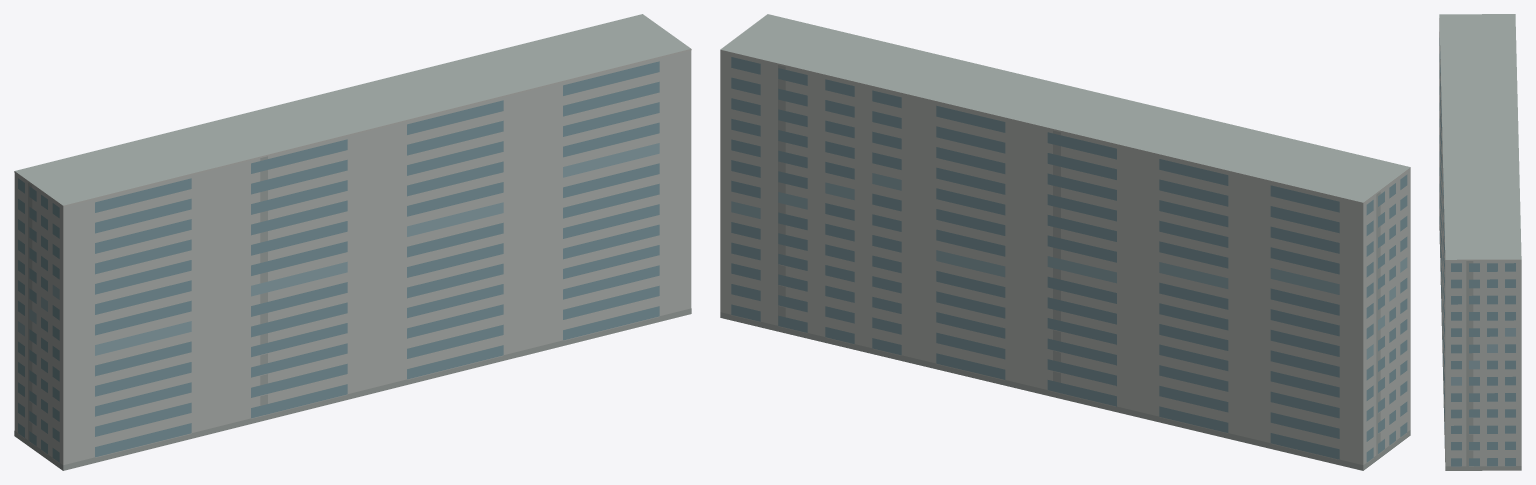
The model's file is residential-3716f297-446a-4392-a8b0-62bf82c9d0bc.glb.
3 renders of one model, left to right at view 1: azimuth 30°, elevation 25°; view 2: azimuth 150°, elevation 25°; view 3: azimuth 270°, elevation 25°, orthographic. The views are drawn at different scales.
Parts seen in each view (by area): view 1: residential-3716f297-446a-4392-a8b0-62bf82c9d0bc.tmp; view 2: residential-3716f297-446a-4392-a8b0-62bf82c9d0bc.tmp; view 3: residential-3716f297-446a-4392-a8b0-62bf82c9d0bc.tmp.
Boxes of the visible parts, x1,y1,x2,y2 form: residential-3716f297-446a-4392-a8b0-62bf82c9d0bc.tmp: (14,14,691,470); residential-3716f297-446a-4392-a8b0-62bf82c9d0bc.tmp: (720,14,1410,470); residential-3716f297-446a-4392-a8b0-62bf82c9d0bc.tmp: (1439,14,1521,470).
Size of the model in its own units: 99.03 by 39.64 by 14.
